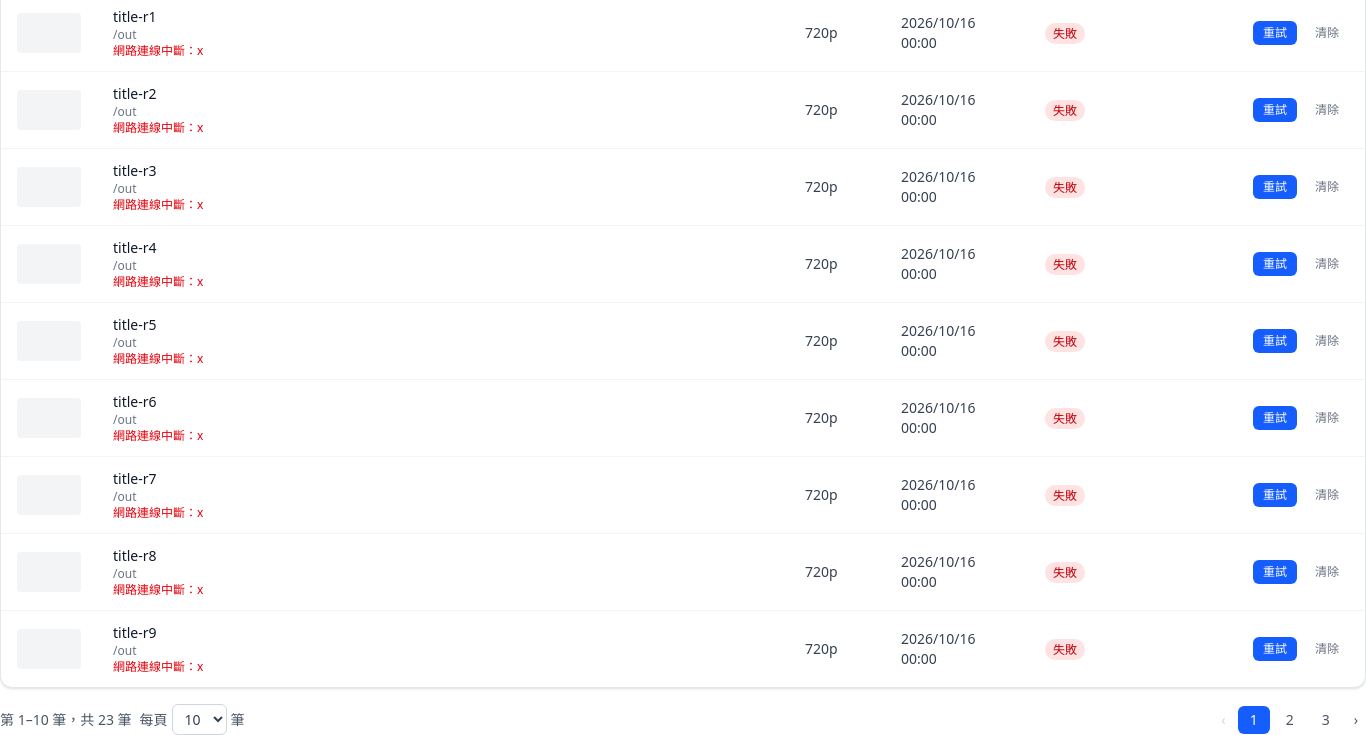
Test case: HistoryPage pagination › changes the page size
(page scrolled)
Select "20" in the dropdown labelled "每頁 筆". click: (199, 720)
box: [172,704,227,734]
(page scrolled)
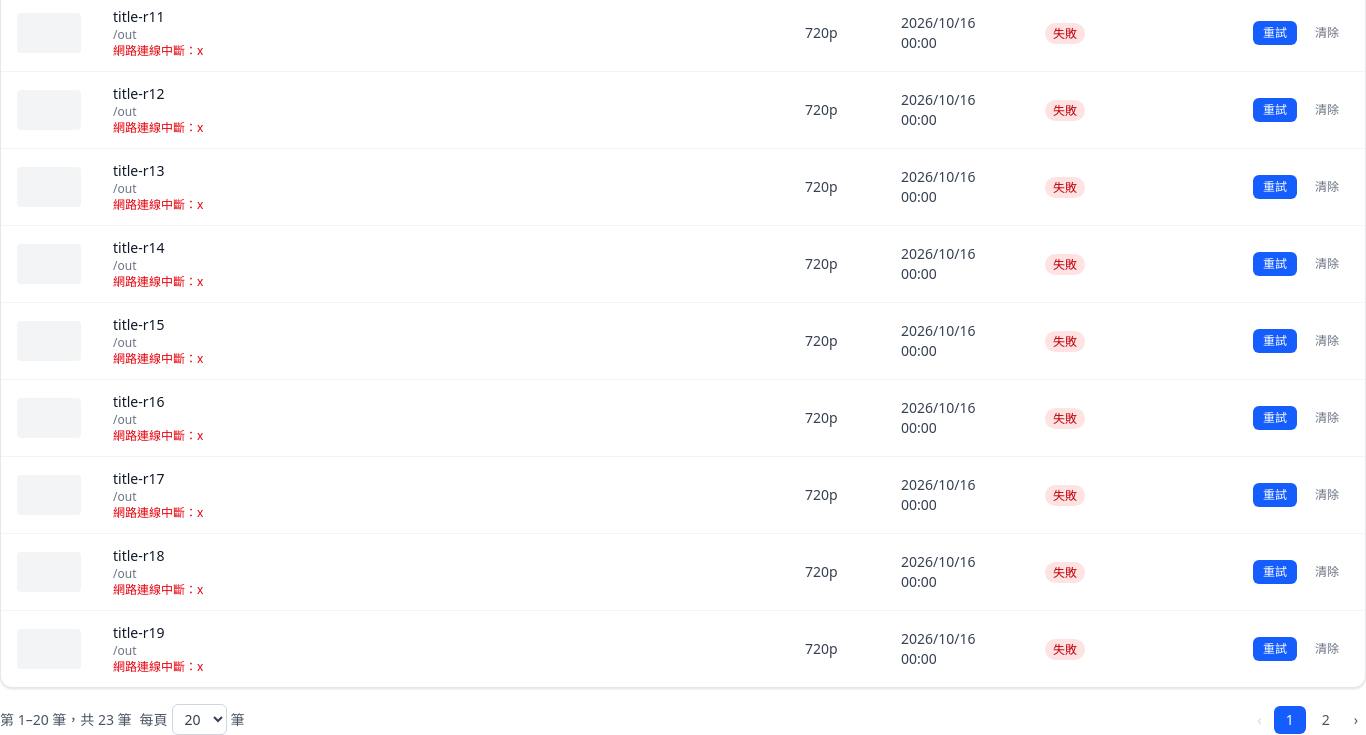
Select "5" in the dropdown labelled "每頁 筆". click: (199, 720)
box: [172,704,227,734]
(page scrolled)
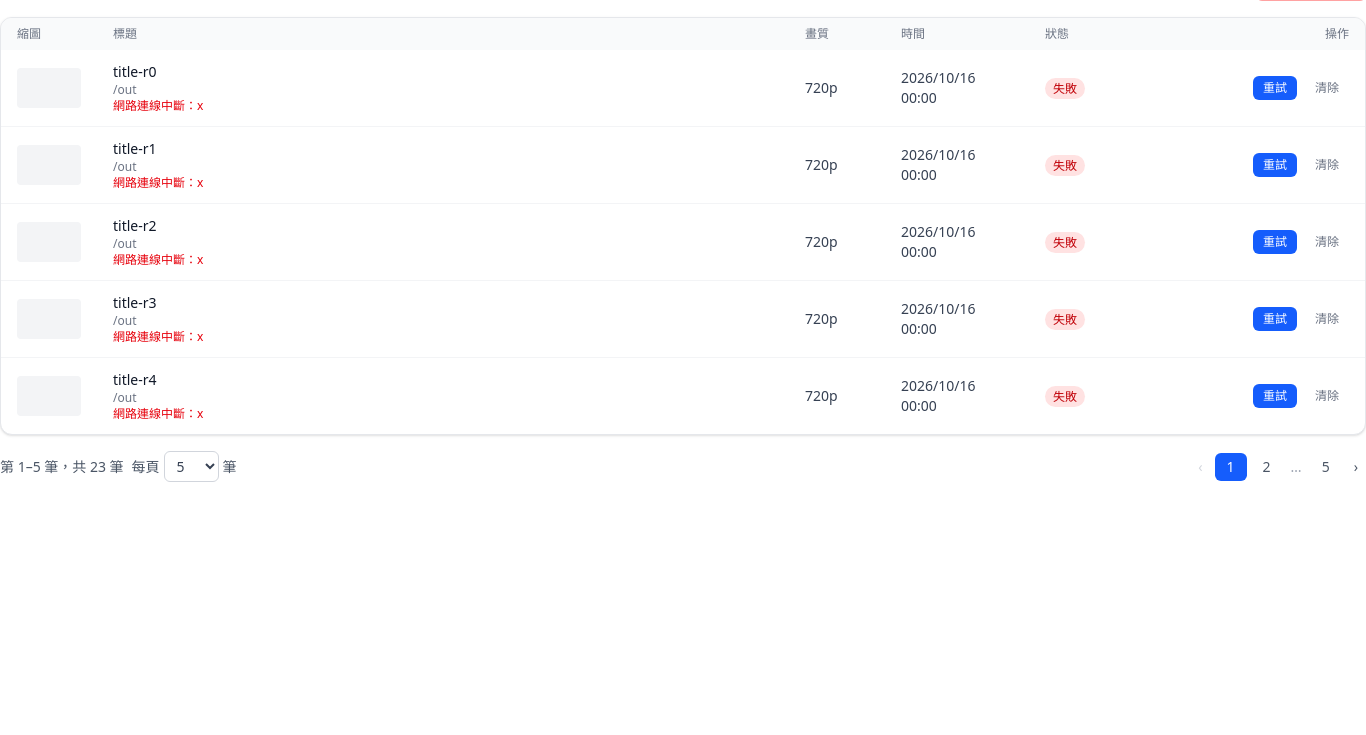
Expected: the text with test id "page-range" reads "第 1–5 筆，共 23 筆", [0,456,124,476]
